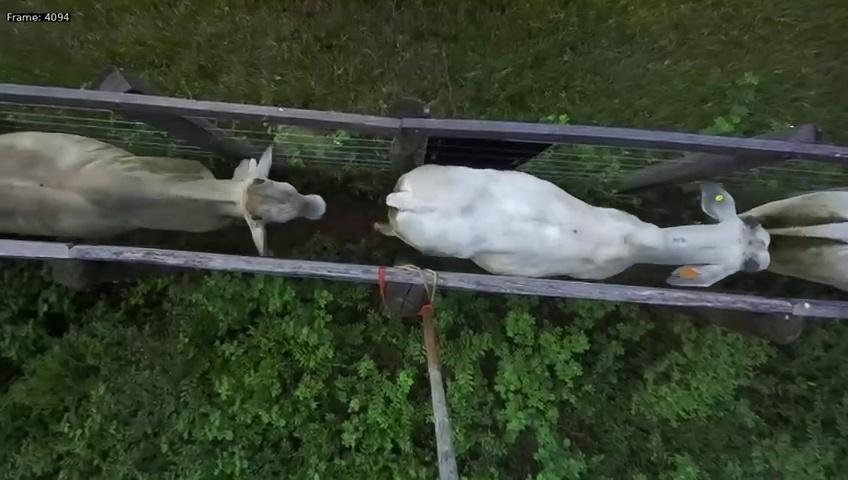cattle: (366, 152, 777, 292), (0, 127, 328, 256)
